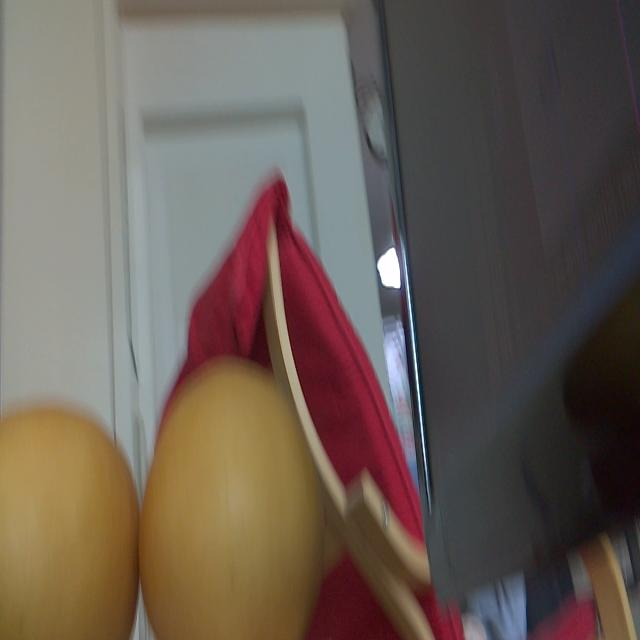pear: (139, 354, 323, 640), (0, 394, 140, 640)
